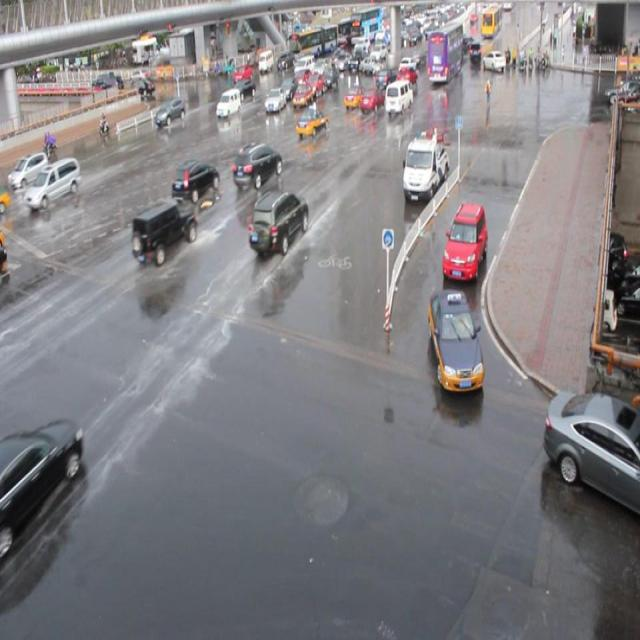bus: (401, 133, 446, 201)
car: (542, 388, 640, 514), (1, 419, 82, 534), (426, 288, 483, 390), (131, 200, 197, 265), (246, 188, 308, 255), (441, 202, 487, 278), (26, 157, 80, 208), (230, 141, 282, 190), (171, 158, 220, 204), (12, 150, 48, 188), (294, 105, 328, 136), (154, 96, 185, 126), (358, 84, 384, 113), (343, 82, 368, 108), (230, 78, 256, 101), (264, 90, 286, 114), (292, 84, 312, 110), (306, 74, 324, 97), (279, 78, 297, 100), (293, 69, 310, 91)
truck: (384, 78, 412, 114), (216, 87, 241, 117)
